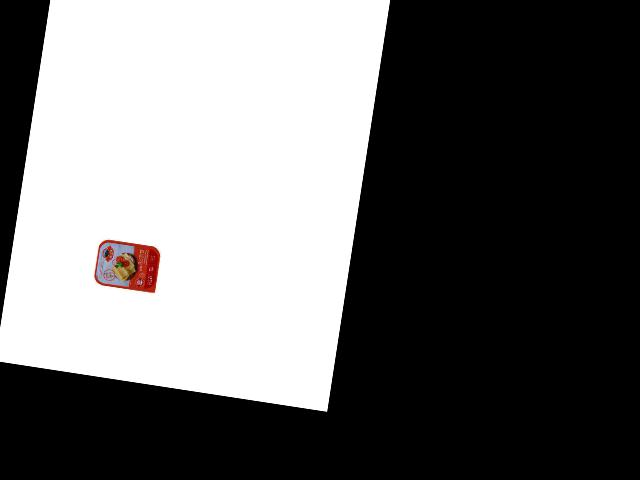cheese: (91, 235, 166, 294)
